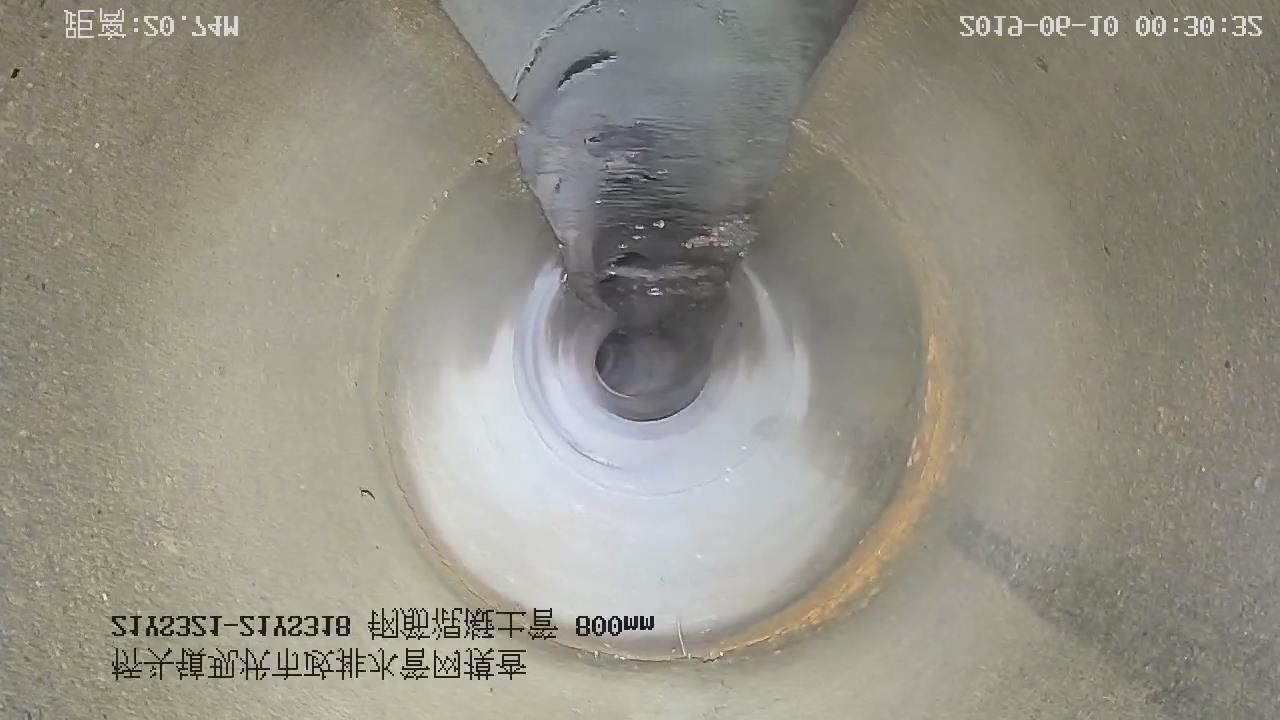CJ: (604, 216, 754, 298)
CKTJ: (379, 249, 963, 663), (595, 366, 640, 400)
